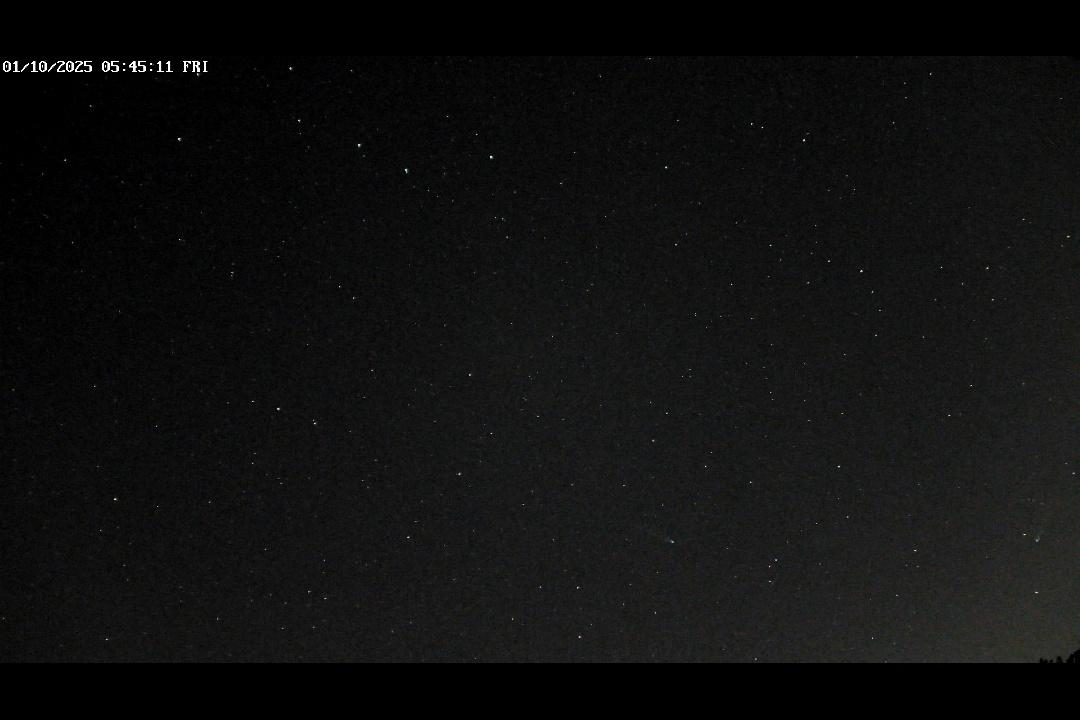Plane: (635, 520, 678, 547)
